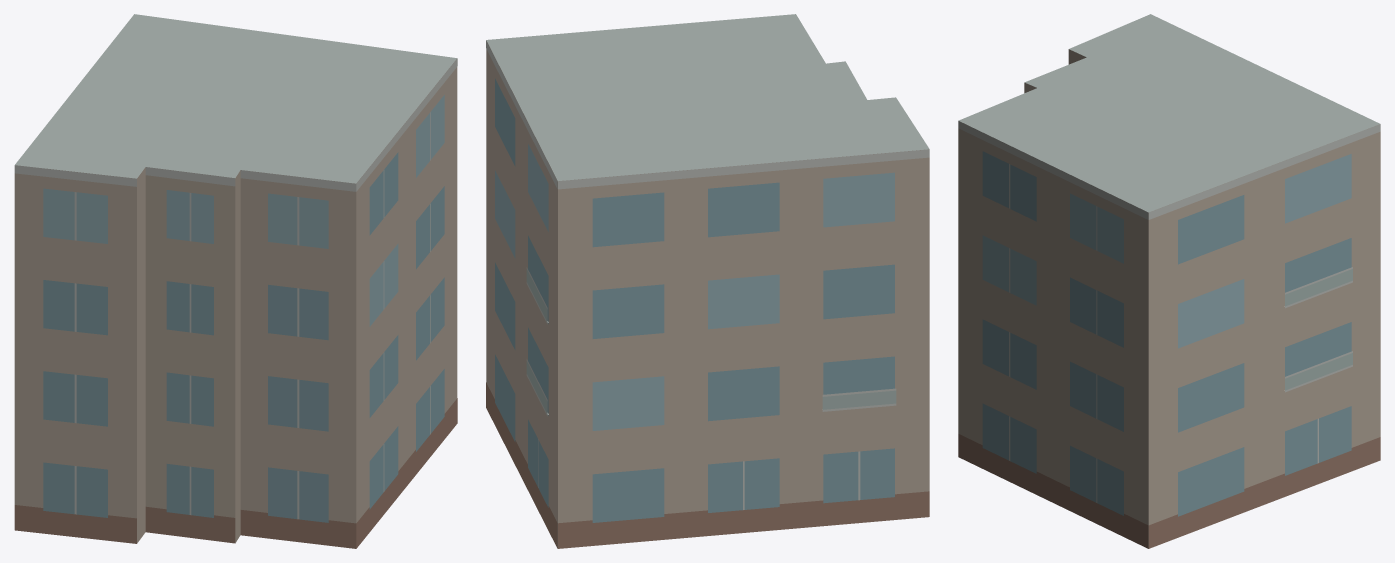
Rendered from survey-upis-32980798.glb.
The picture shows the model from 3 angles, left to right: view 1: azimuth 30°, elevation 25°; view 2: azimuth 150°, elevation 25°; view 3: azimuth 270°, elevation 25°; orthographic projection. The views are drawn at different scales.
Parts seen in each view (by area): view 1: survey-upis-32980798.tmp; view 2: survey-upis-32980798.tmp; view 3: survey-upis-32980798.tmp.
Part boxes in pixels (x1,y1,x2,y2): survey-upis-32980798.tmp: (14,14,457,548); survey-upis-32980798.tmp: (486,14,929,548); survey-upis-32980798.tmp: (958,14,1380,548).
Bounding box in the file's own units: 13.68 × 10.8 × 12.3.
